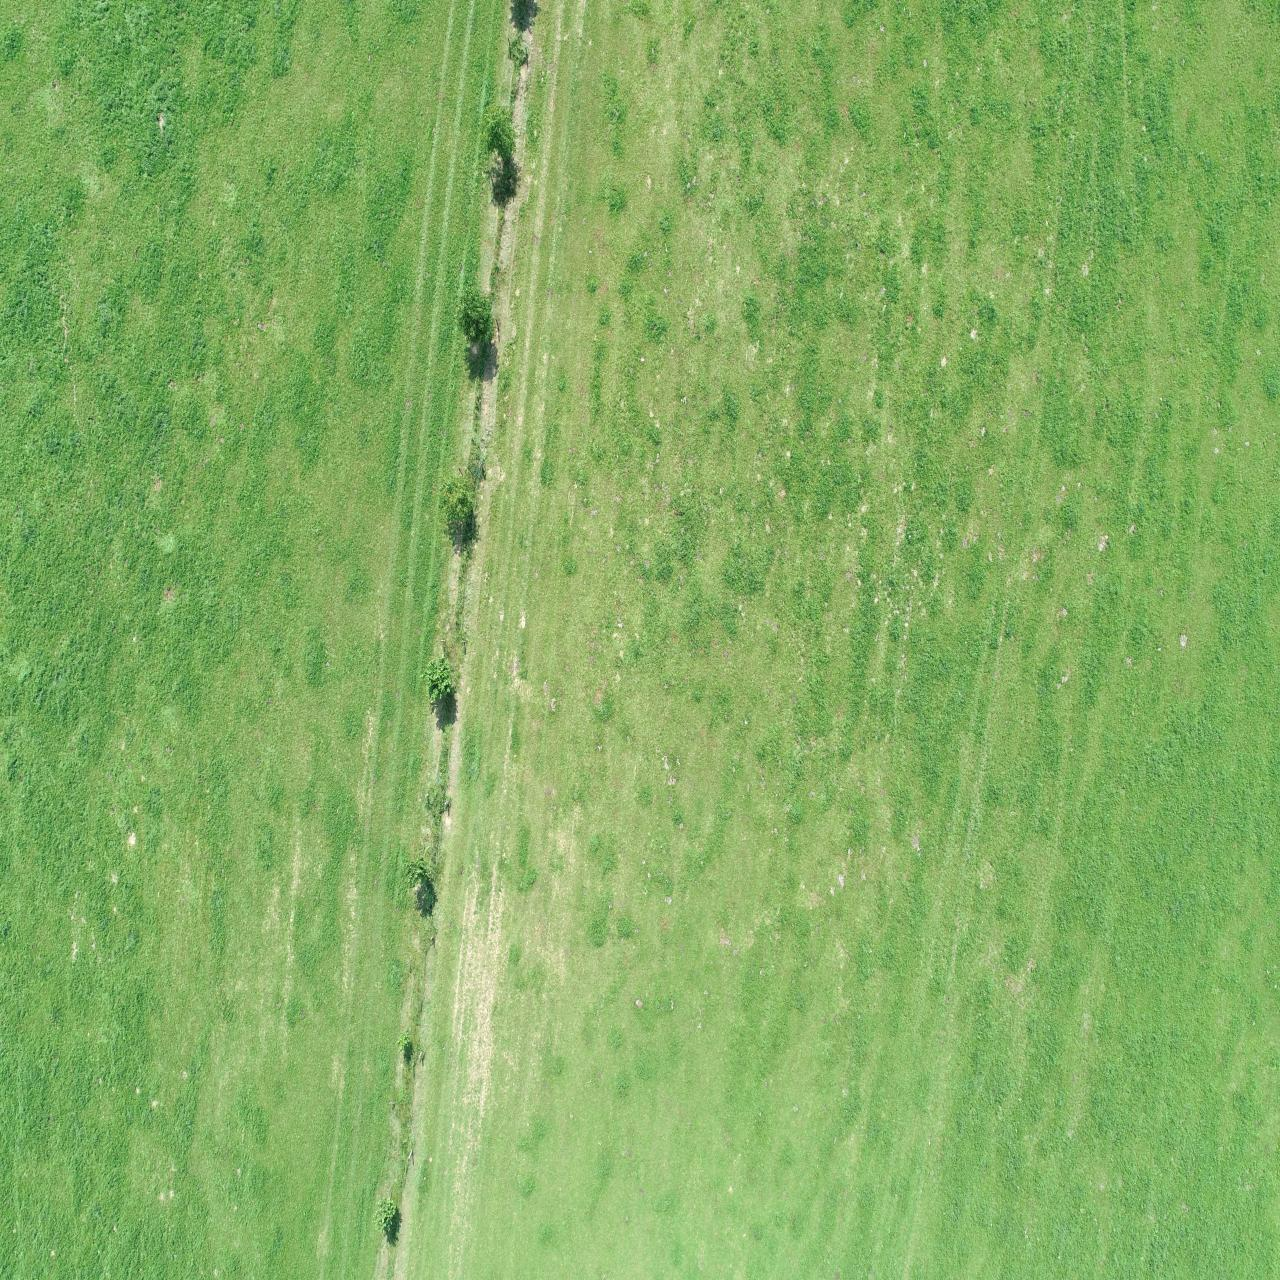cow: (617, 642, 701, 720), (644, 767, 720, 852), (722, 756, 810, 830)
